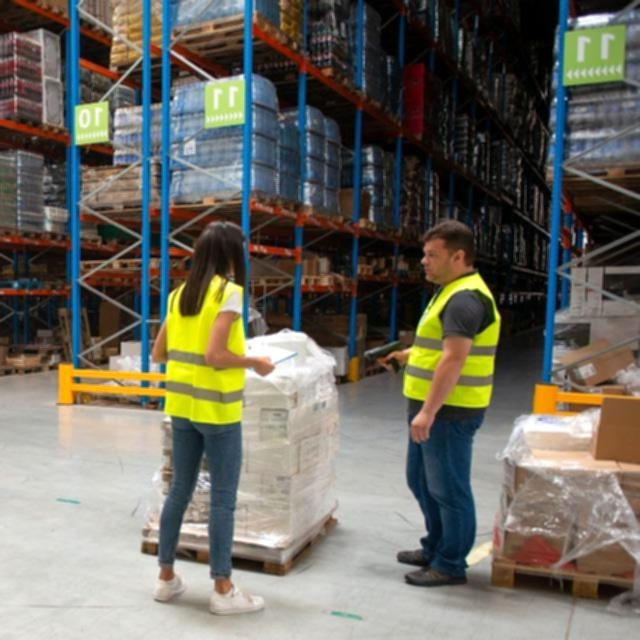Con_Chaleco: (399, 278, 501, 405), (162, 278, 250, 420)
Sin_Casco_Mascarrilla: (421, 220, 477, 285), (193, 221, 249, 281)
